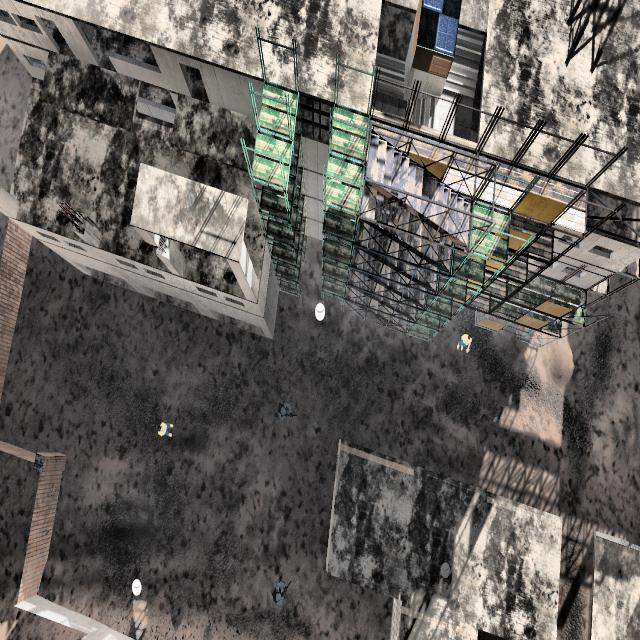bad: (273, 390, 295, 429), (270, 582, 288, 610)
good: (452, 325, 476, 362), (156, 411, 175, 450)
